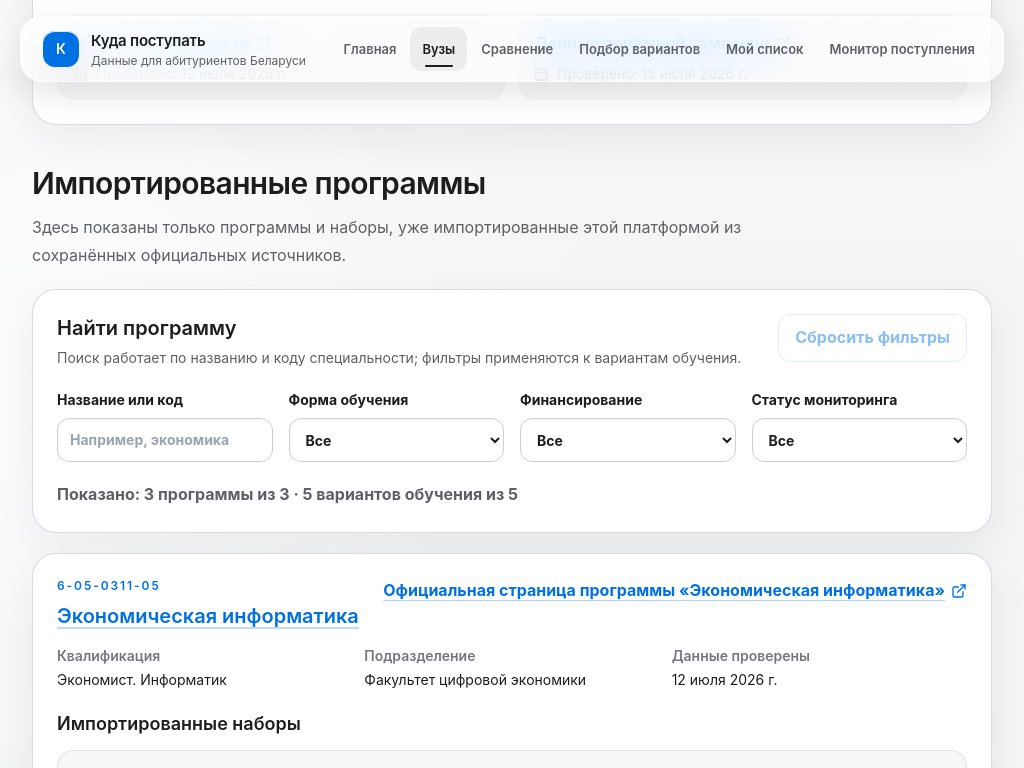
it: program discovery URL filters › shows a distinct filtered empty state with one reset action and restores the full list
(page scrolled)
Check: the heading "Экономическая информатика" is shown, box [57,602,359,630]
In the search field labelled "Название или код": (165, 440) [57,418,272,462], type "несуществующая программа"
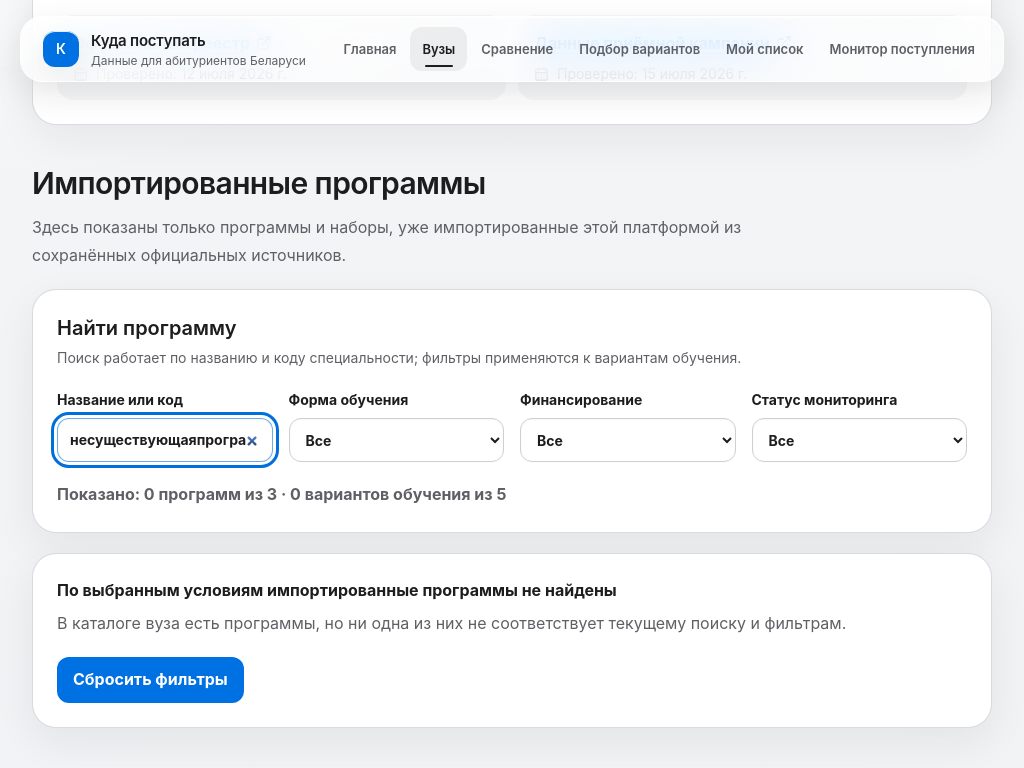
Check: the text "По выбранным условиям импортированные программы не найдены" is shown, box [57,580,617,600]
Check: the number of buttons "Сбросить фильтры" is 1
Click the button "Сбросить фильтры": (150, 680) [57,657,244,703]
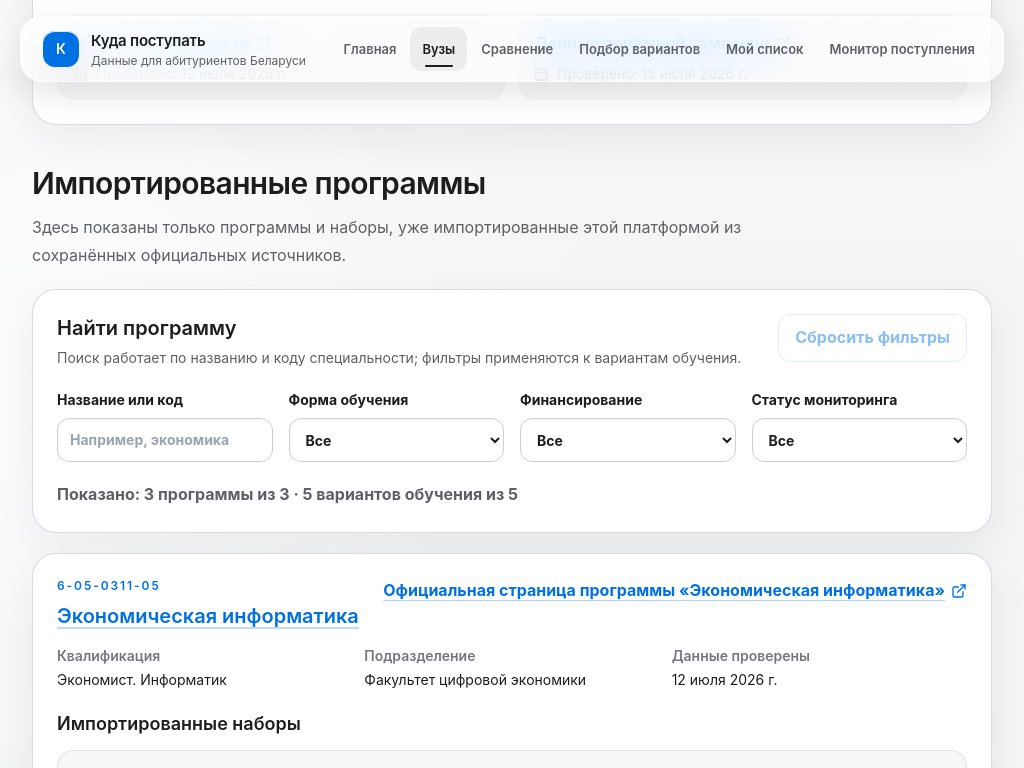
Check: the heading "Экономическая информатика" is shown, box [57,602,359,630]
Check: the text "Показано: 3 программы из 3 · 5 вариантов обучения из 5" is shown, box [57,484,518,504]
